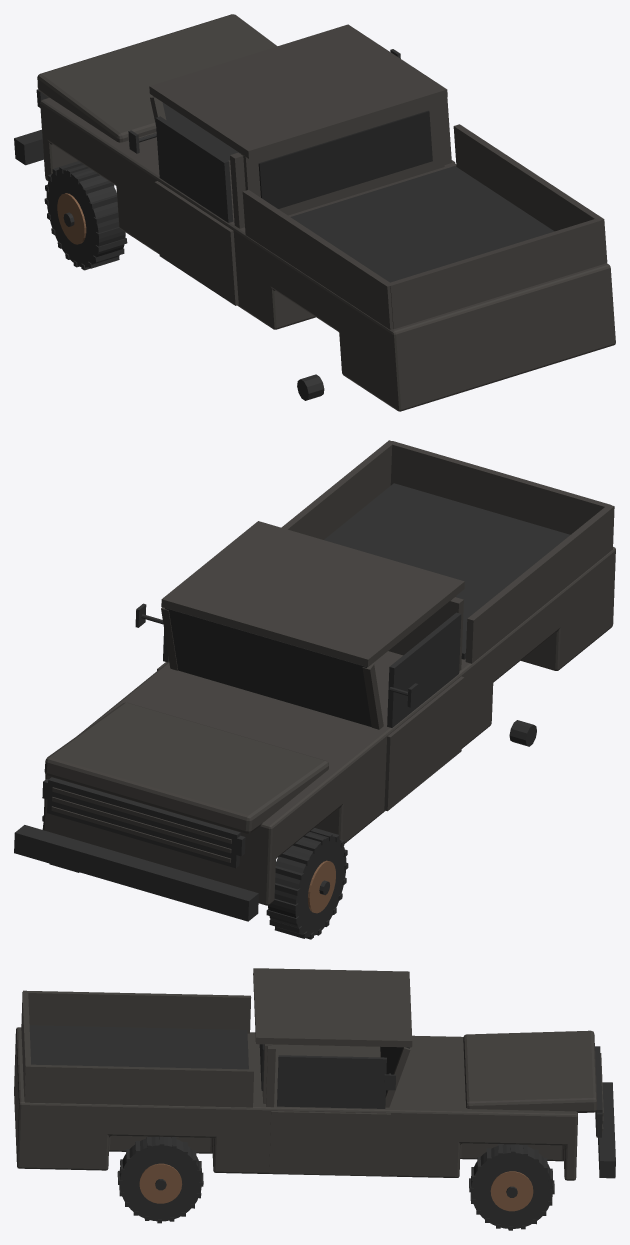
File: wreck_car.glb
The picture shows the model from 3 angles, top to bottom: view 1: azimuth 30°, elevation 25°; view 2: azimuth 150°, elevation 25°; view 3: azimuth 270°, elevation 25°; orthographic projection. The views are drawn at different scales.
Parts seen in each view (by area): view 1: wreck_car; view 2: wreck_car; view 3: wreck_car.
Part boxes in pixels (x1=…): wreck_car: x1=14, y1=14, x2=615, y2=411; wreck_car: x1=14, y1=440, x2=615, y2=939; wreck_car: x1=14, y1=968, x2=615, y2=1230.
Size of the model in its own units: 2.23 by 1.86 by 5.28.
